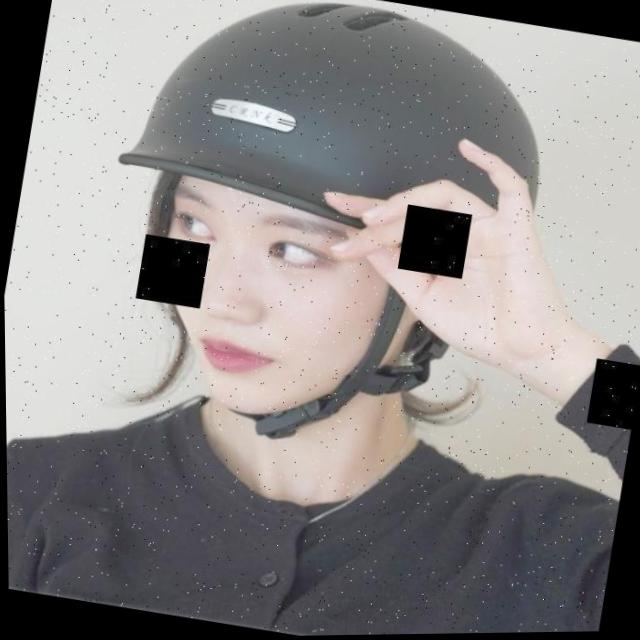helmet: (66, 0, 569, 482)
